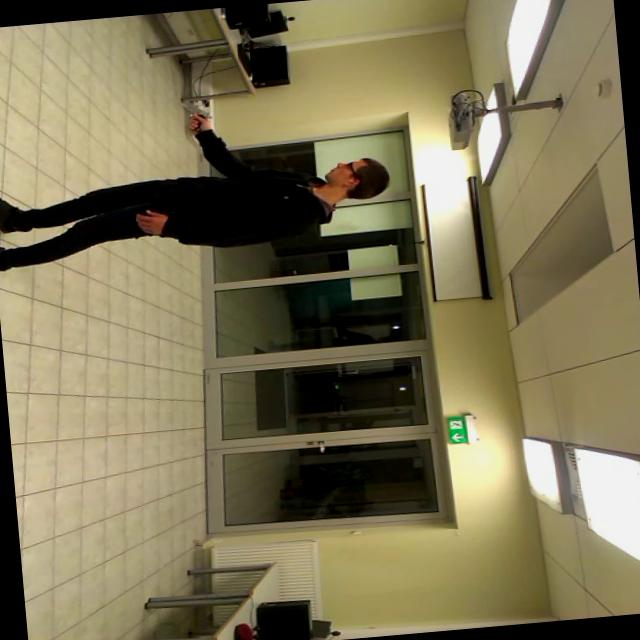handgun: (177, 98, 219, 132)
